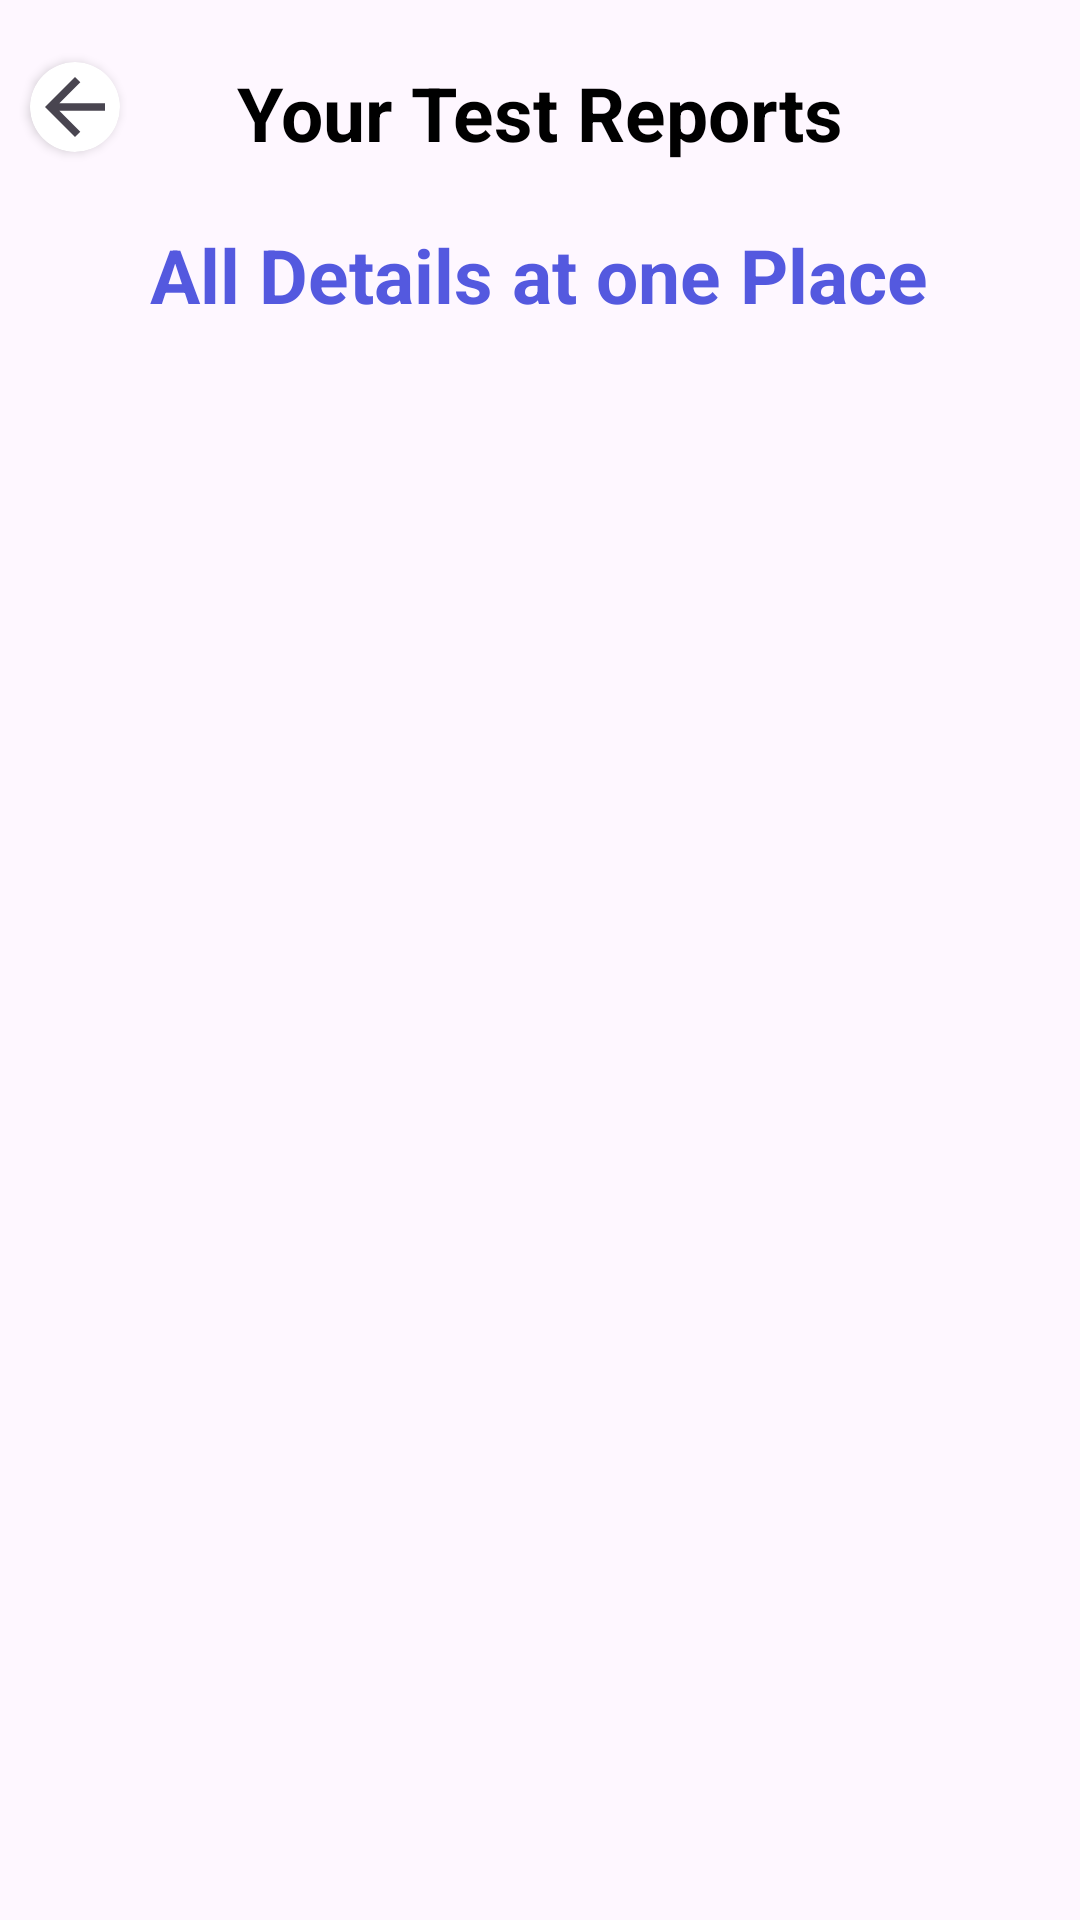

Locate icon controls on the screen. Image size 1080×1920, boxes as bbox=[x1, y1, x2, y2].
backbutton: bbox=[30, 62, 120, 152]
